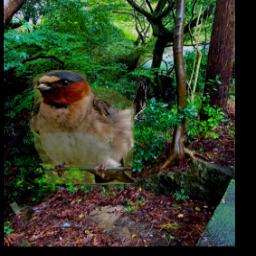Swallow: (28, 71, 137, 185)
Woodpecker: (130, 77, 147, 121)
